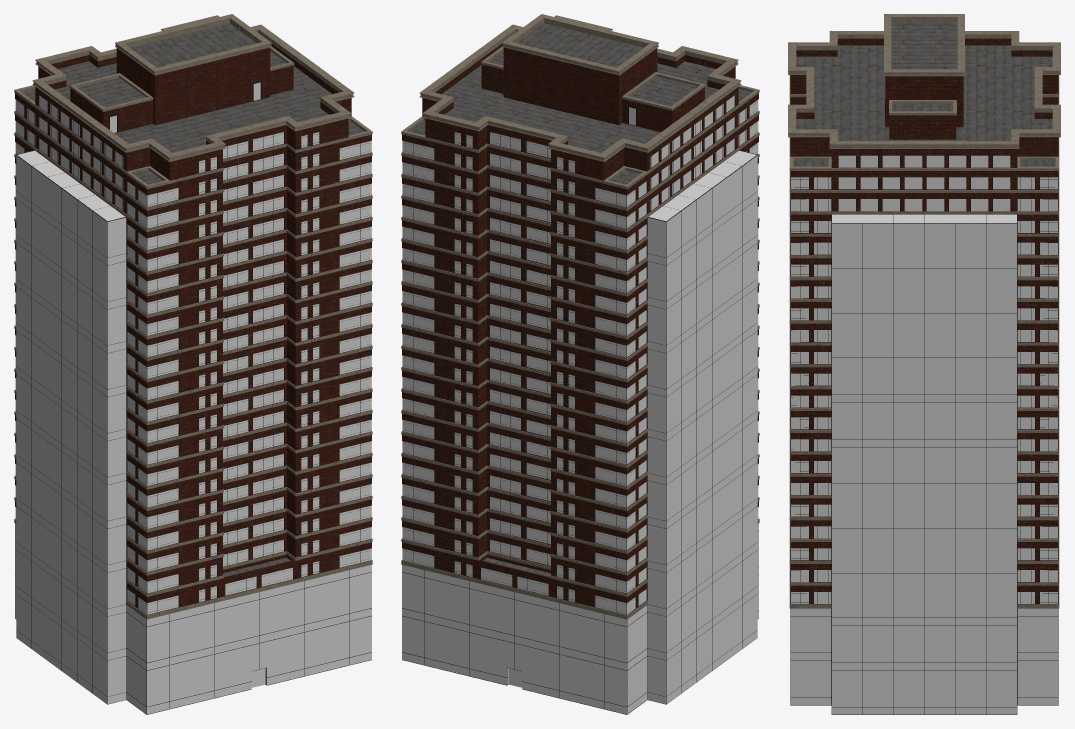
The model's file is Building_02.fbx.
3 renders of one model, left to right at view 1: azimuth 30°, elevation 25°; view 2: azimuth 150°, elevation 25°; view 3: azimuth 270°, elevation 25°, orthographic.
Parts seen in each view (by area): view 1: Building_02_LOD0; view 2: Building_02_LOD0; view 3: Building_02_LOD0.
Boxes of the visible parts, x1,y1,x2,y2 form: Building_02_LOD0: (14, 14, 372, 714); Building_02_LOD0: (401, 14, 759, 714); Building_02_LOD0: (788, 14, 1060, 714).
Size of what is drawn, in the model's own units: 3133 by 6778 by 2761.
